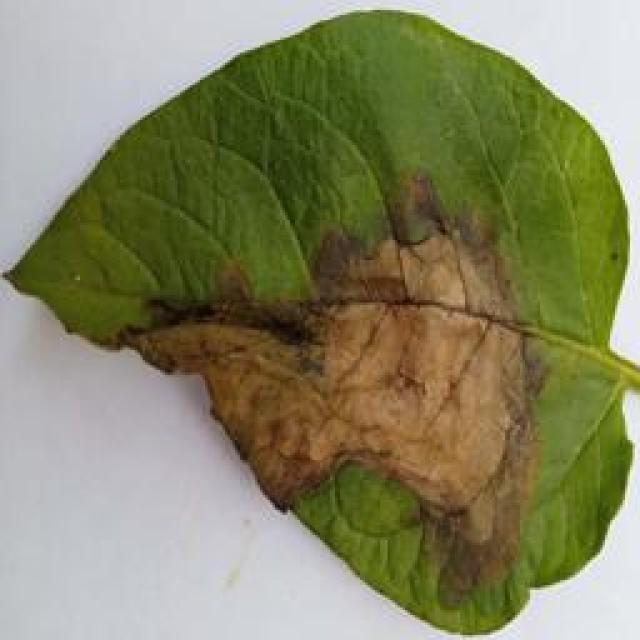Potato_Late_Blight: (1, 10, 631, 638)
